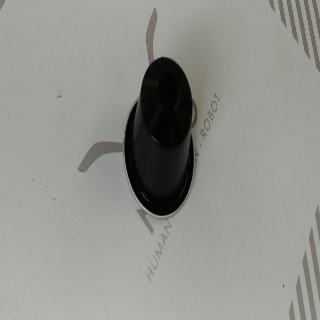capsule_10: (123, 55, 195, 219)
